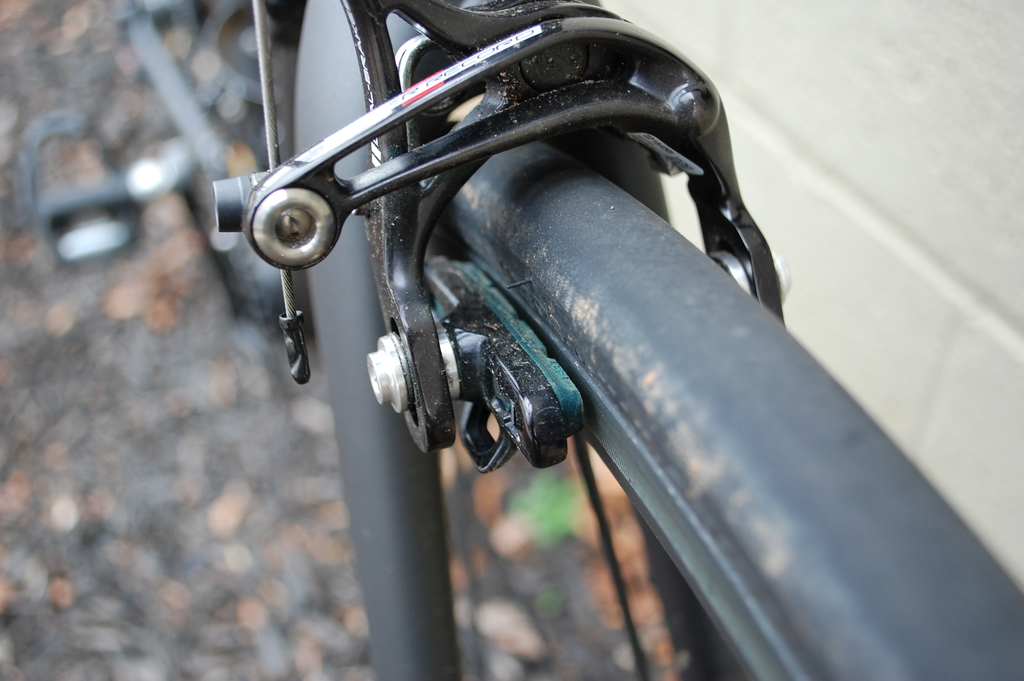bicycle: (12, 0, 1023, 680)
